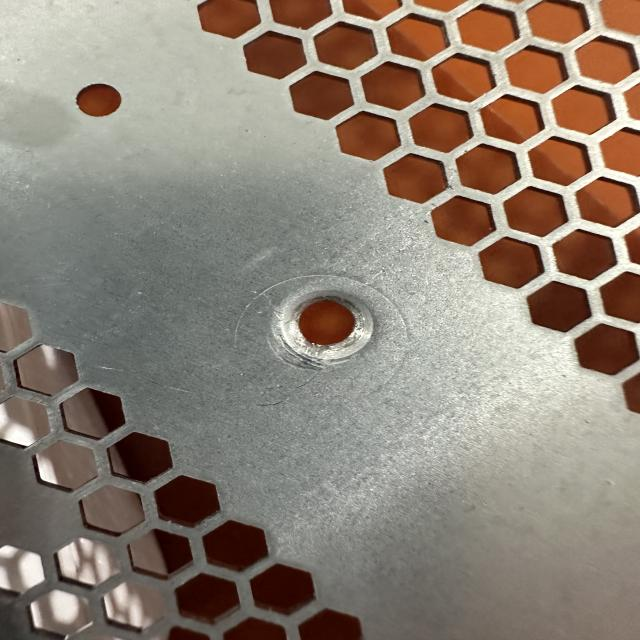Missing screw: (264, 279, 386, 371)
